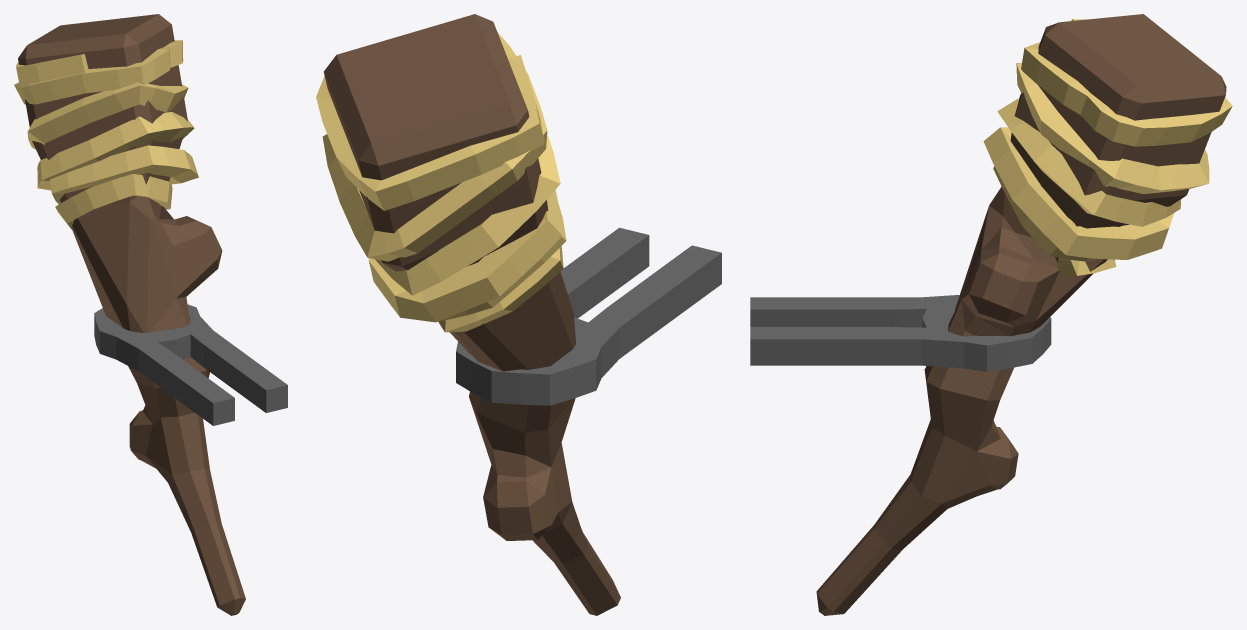
The model's file is fire torch.fbx.
The picture shows the model from 3 angles, left to right: view 1: azimuth 30°, elevation 25°; view 2: azimuth 150°, elevation 25°; view 3: azimuth 270°, elevation 25°; orthographic projection. The views are drawn at different scales.
Parts seen in each view (by area): view 1: Circle.006; view 2: Circle.006; view 3: Circle.006.
Boxes of the visible parts, <box> form: Circle.006: <box>14,14,287,615</box>; Circle.006: <box>316,14,721,615</box>; Circle.006: <box>750,14,1232,615</box>.
Bounding box in the file's own units: 162 × 470 × 350.
